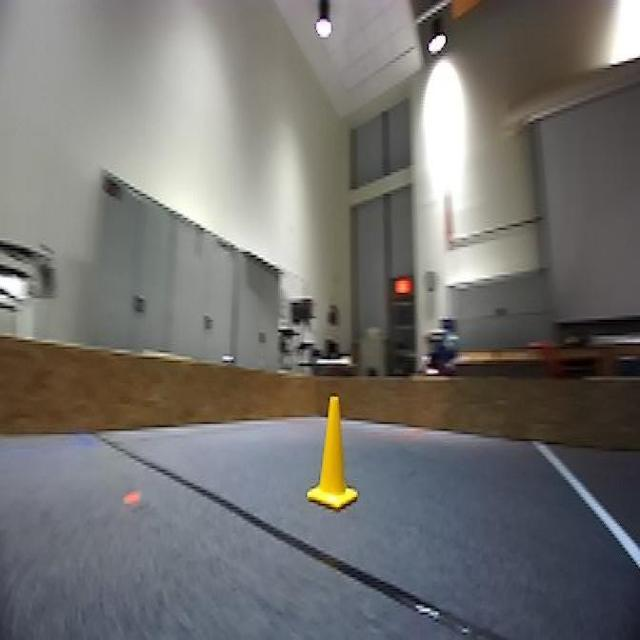frc_cone: (307, 395, 358, 514)
